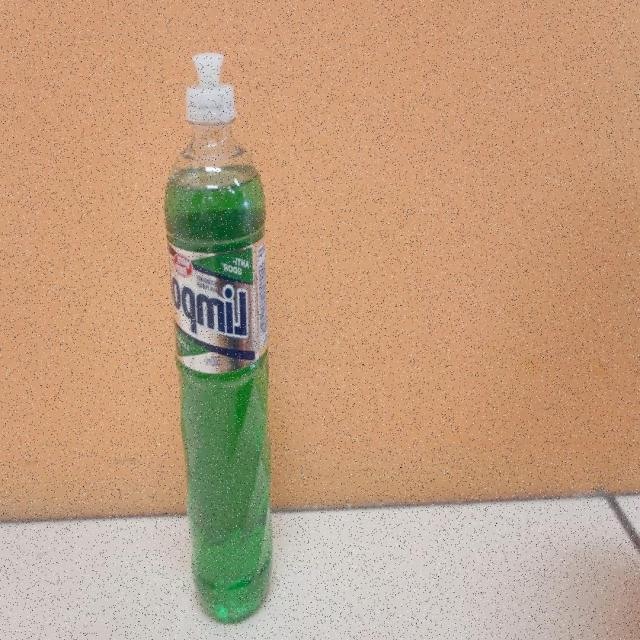Cleaner: (163, 54, 274, 628)
